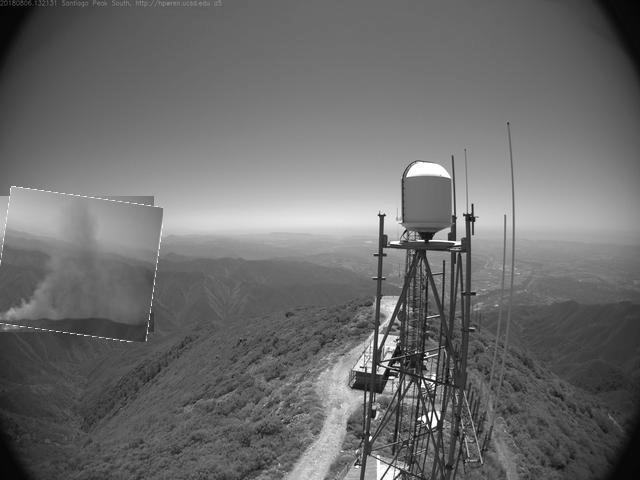smoke: (1, 192, 161, 340)
